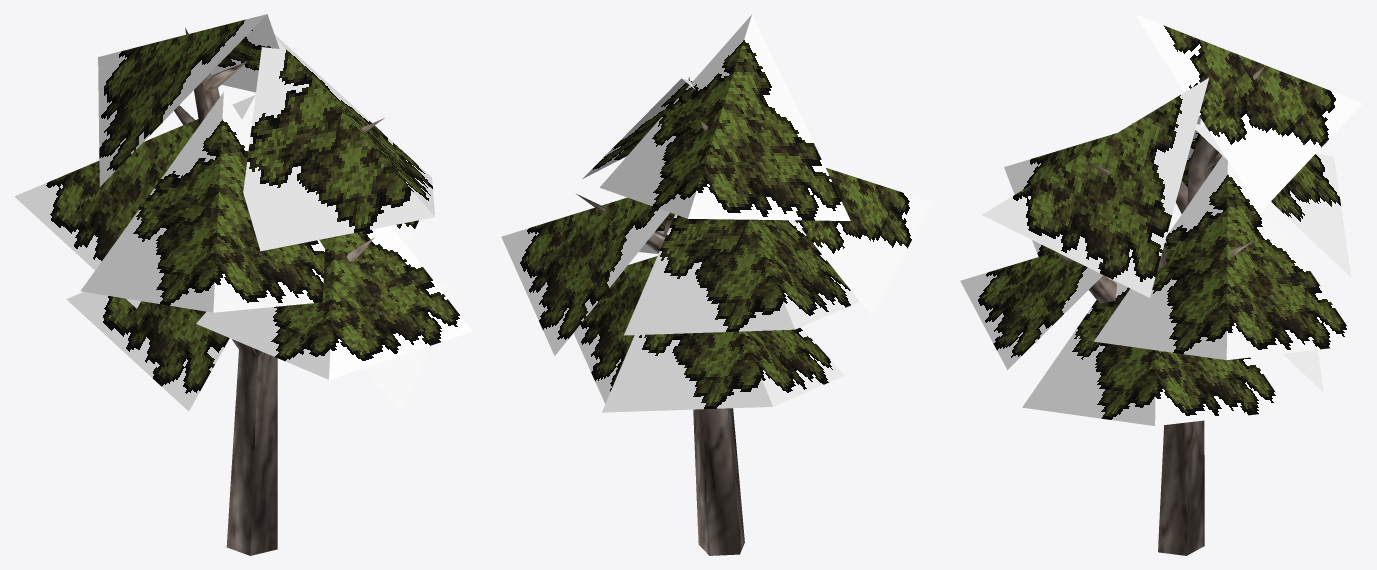
The model's file is poplar_0.obj.
3 renders of one model, left to right at view 1: azimuth 30°, elevation 25°; view 2: azimuth 150°, elevation 25°; view 3: azimuth 270°, elevation 25°, orthographic. The views are drawn at different scales.
Visible parts, largest first — view 1: poplar_0; view 2: poplar_0; view 3: poplar_0.
Boxes of the visible parts, box(x1,y1,x2,y2) form: poplar_0: box(14, 14, 472, 555); poplar_0: box(501, 14, 931, 555); poplar_0: box(960, 14, 1362, 555).
Bounding box in the file's own units: 3.98 × 5.58 × 3.85.
